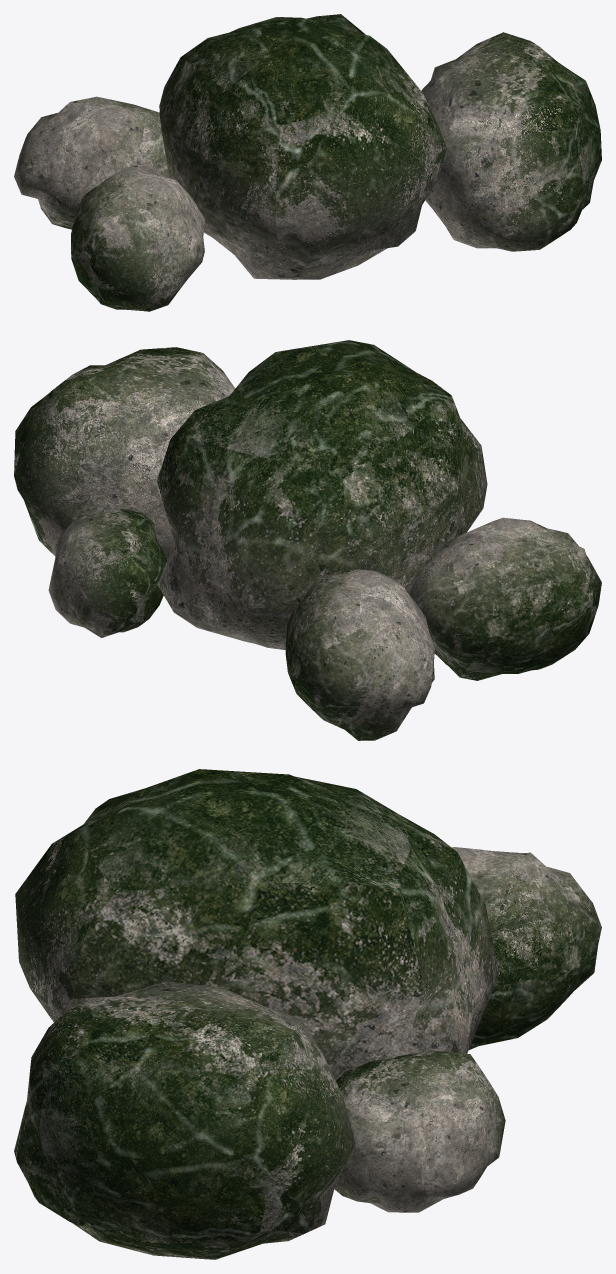
Rendered from full_rock.obj.
The picture shows the model from 3 angles, top to bottom: view 1: azimuth 30°, elevation 25°; view 2: azimuth 150°, elevation 25°; view 3: azimuth 270°, elevation 25°; orthographic projection. The views are drawn at different scales.
Visible parts, largest first — view 1: rockLP002, rockLP004, rockLP003, rockLP006; view 2: rockLP002, rockLP004, rockLP003, rockLP006, rockLP005; view 3: rockLP002, rockLP004, rockLP005, rockLP006.
Part boxes in pixels (x1,y1,x2,y2): rockLP002: (159,14,446,279); rockLP004: (421,32,601,251); rockLP003: (71,165,204,311); rockLP006: (14,96,169,229); rockLP002: (157,340,487,649); rockLP004: (14,347,235,559); rockLP003: (408,517,601,680); rockLP006: (285,569,434,740); rockLP005: (48,508,167,637); rockLP002: (15,769,499,1080); rockLP004: (14,981,355,1259); rockLP005: (334,1050,505,1212); rockLP006: (452,847,601,1049).
Size of the model in its own units: 105 by 46.75 by 73.56.
